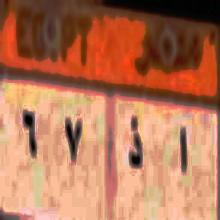6: (18, 104, 40, 166)
7: (59, 113, 85, 168)
alif: (173, 112, 195, 177)
zaal: (123, 111, 145, 178)
